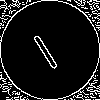I: (25, 25, 61, 71)
